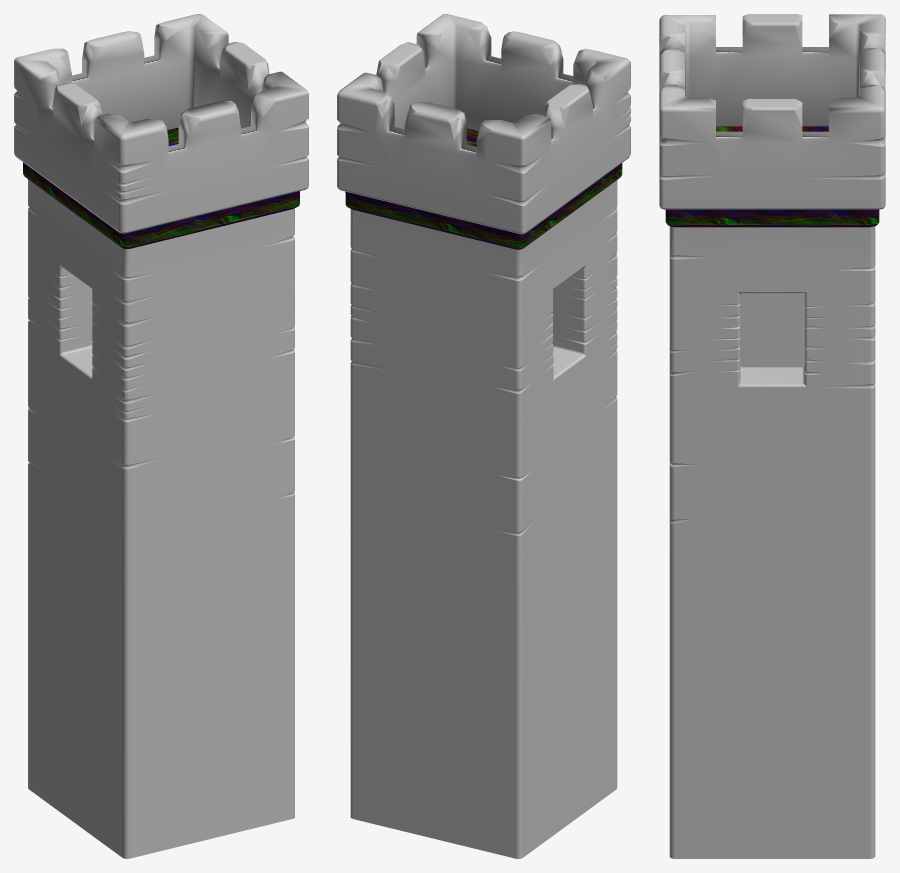
File: SM_4x4TowerSquare_Top.fbx
3 views of the same model, side by side, from view 1: azimuth 30°, elevation 25°; view 2: azimuth 150°, elevation 25°; view 3: azimuth 270°, elevation 25° (orthographic). The views are drawn at different scales.
Parts seen in each view (by area): view 1: SM_4x4TowerSquare_Top_LOD0; view 2: SM_4x4TowerSquare_Top_LOD0; view 3: SM_4x4TowerSquare_Top_LOD0.
Boxes of the visible parts, x1,y1,x2,y2 form: SM_4x4TowerSquare_Top_LOD0: (14, 14, 308, 858); SM_4x4TowerSquare_Top_LOD0: (337, 14, 630, 858); SM_4x4TowerSquare_Top_LOD0: (659, 14, 885, 858).
Size of the model in its own units: 440 by 440 by 1620.
2 materials, 1 textured.
